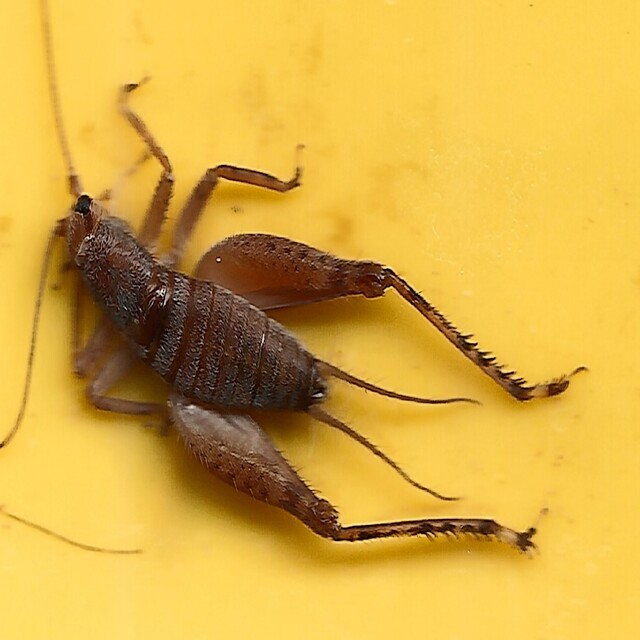Orthoptera: (52, 77, 588, 563)
